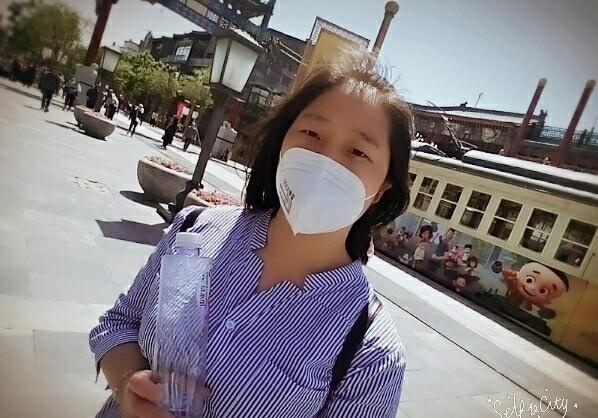Mask: (270, 118, 384, 233)
